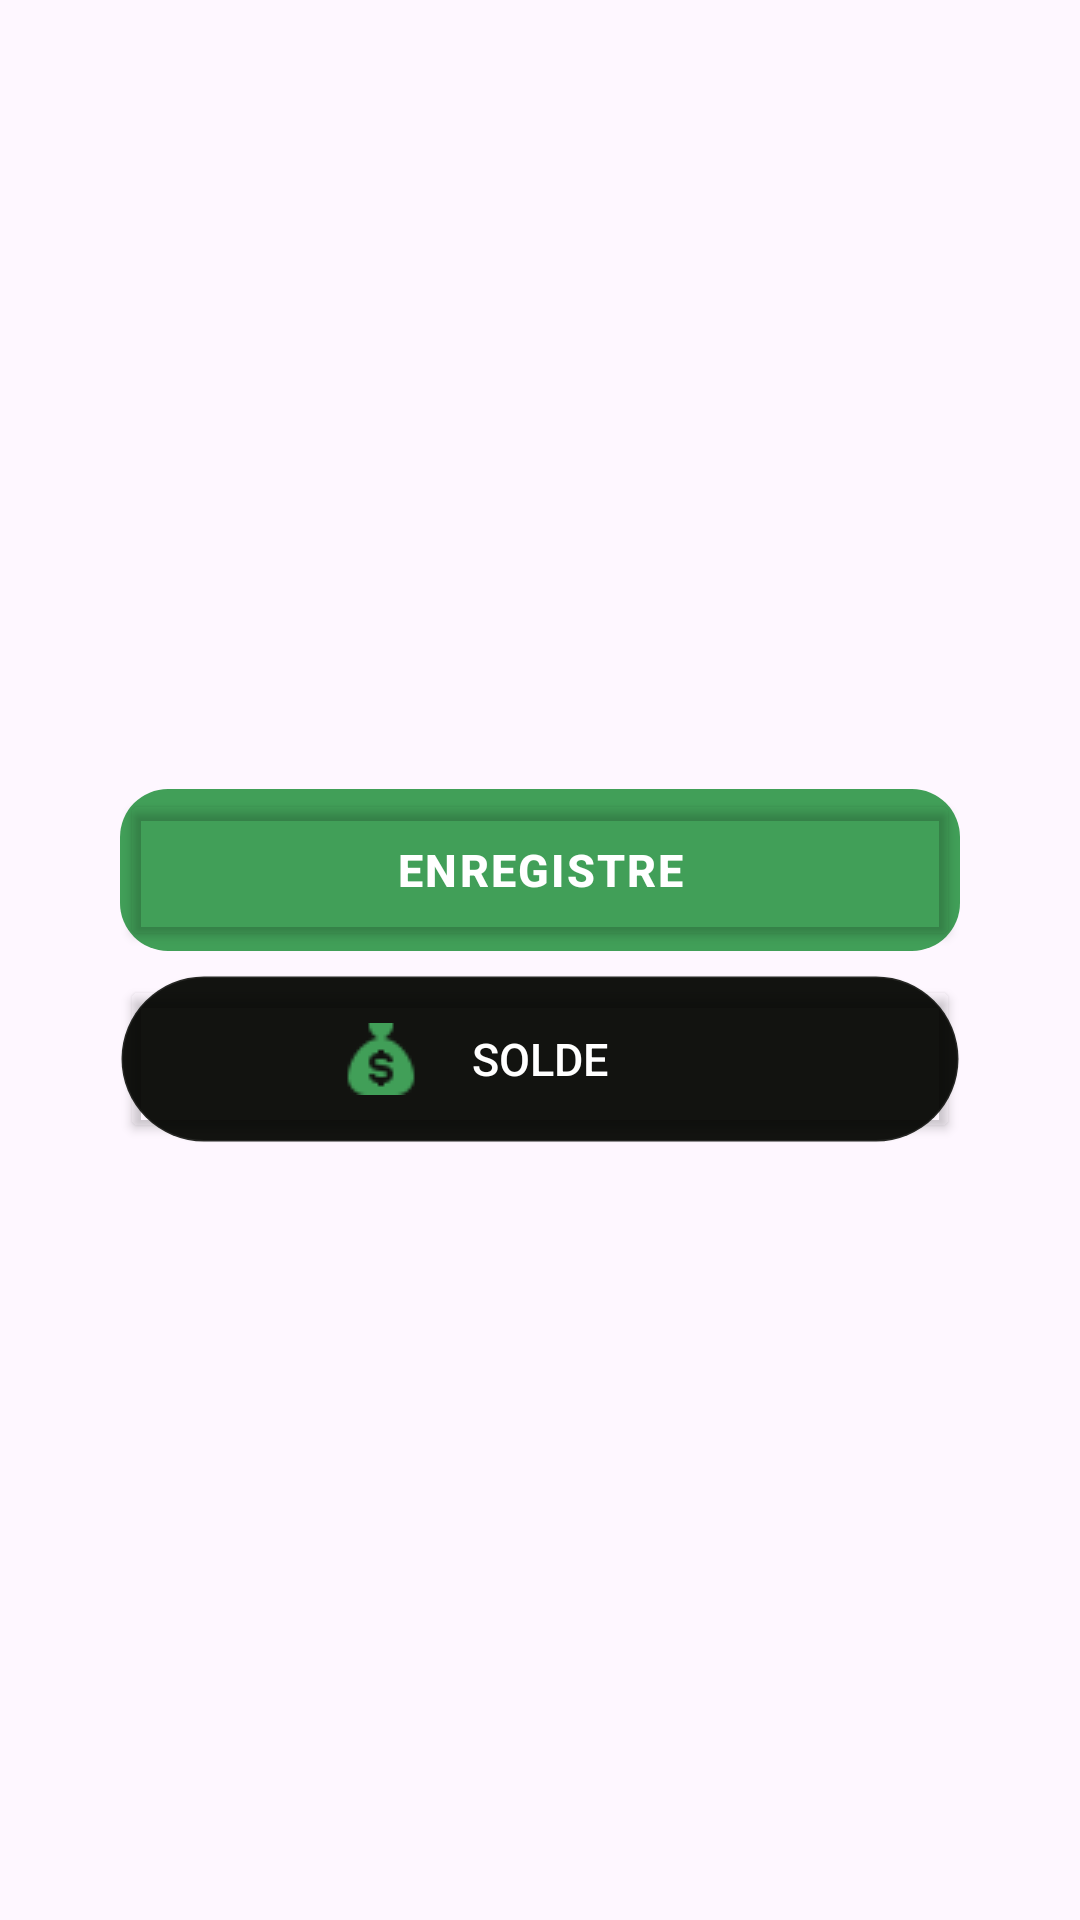

Icon bounding boxes for this 1080w x 1920h phone screenshot, format (x1, y1, x2, y2):
sack dollar focus: (347, 1023, 415, 1095)
